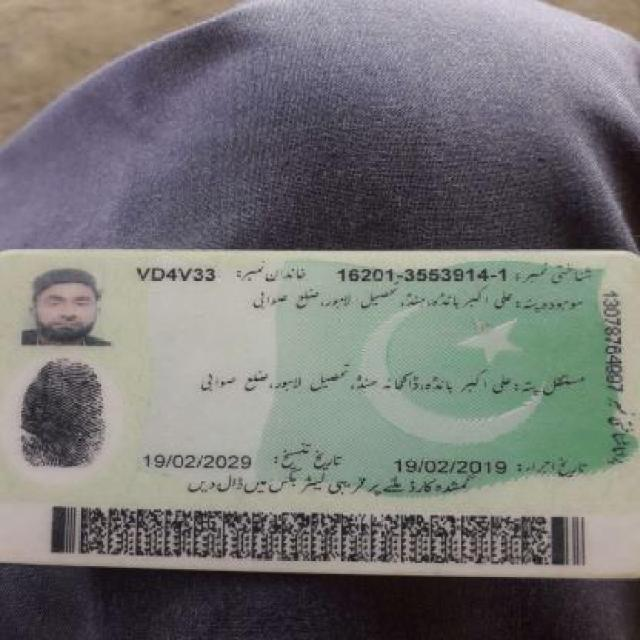Back: (4, 246, 636, 586)
